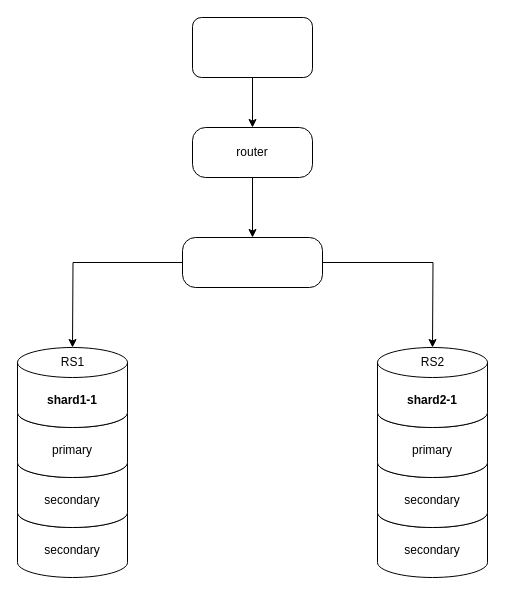
Image size: 505x595. Some labels were removed from this diagram. Each missing label, with the centre of its shape:
configServer: the point at 252,262
pymongo-api: the point at 252,47
